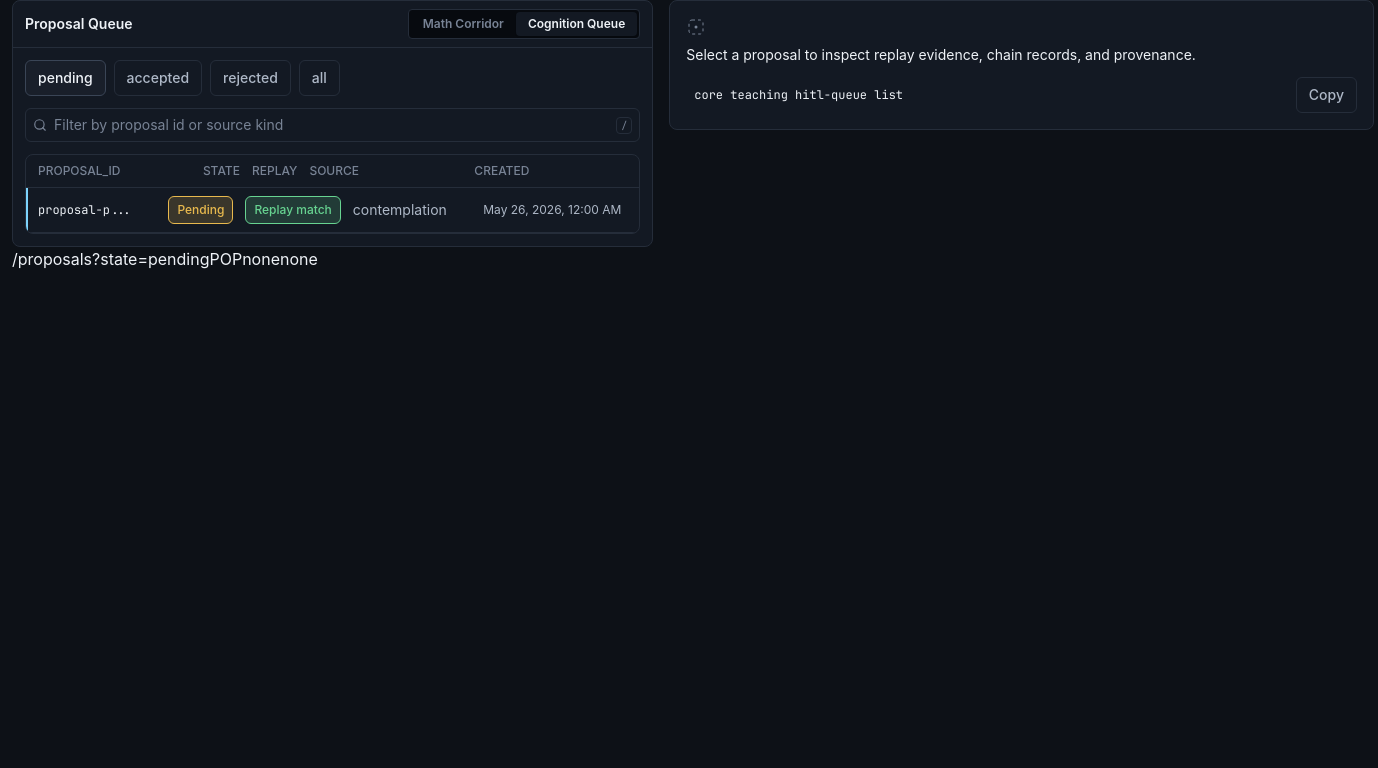
Test: ProposalsRoute › selecting a row writes the path param (replace) and renders detail
The width and height of the screenshot is (1378, 768).
Click the button "proposal-p".
click(333, 210)  # box [26,188,639,233]
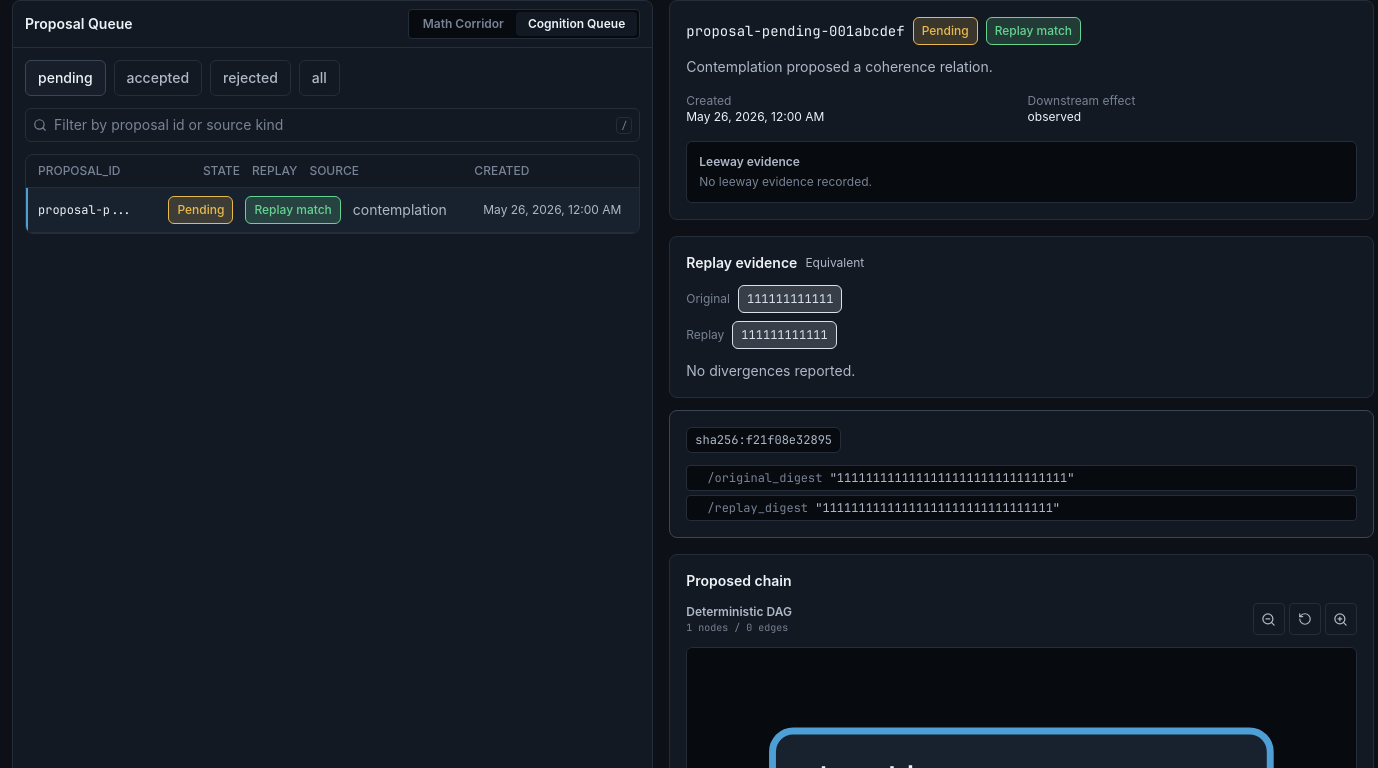
Expected: the text "Contemplation proposed a coherence relation." is shown, [686,58,993,75]
